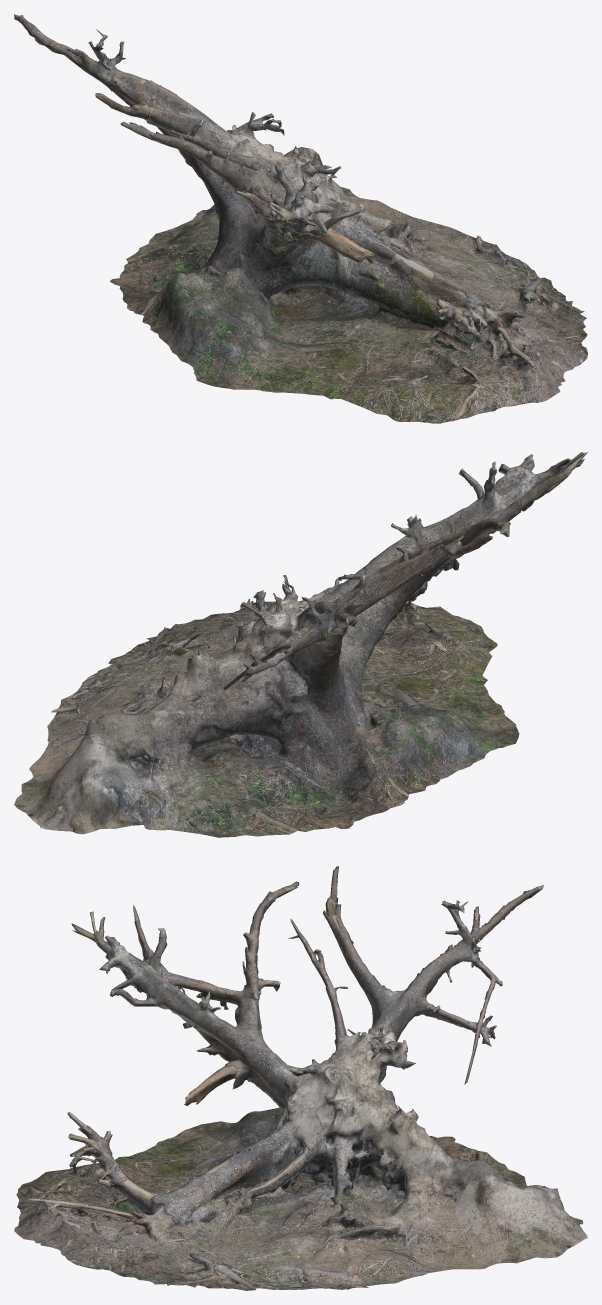
File: sm_TreeStump_06_01.fbx
The picture shows the model from 3 angles, top to bottom: view 1: azimuth 30°, elevation 25°; view 2: azimuth 150°, elevation 25°; view 3: azimuth 270°, elevation 25°; orthographic projection. The views are drawn at different scales.
Parts seen in each view (by area): view 1: sm_TreeStump_06_01_LOD0; view 2: sm_TreeStump_06_01_LOD0; view 3: sm_TreeStump_06_01_LOD0.
Boxes of the visible parts, x1,y1,x2,y2 form: sm_TreeStump_06_01_LOD0: (14,14,587,423); sm_TreeStump_06_01_LOD0: (14,452,587,837); sm_TreeStump_06_01_LOD0: (14,866,587,1290).
Bounding box in the file's own units: 238 × 306 × 143.
